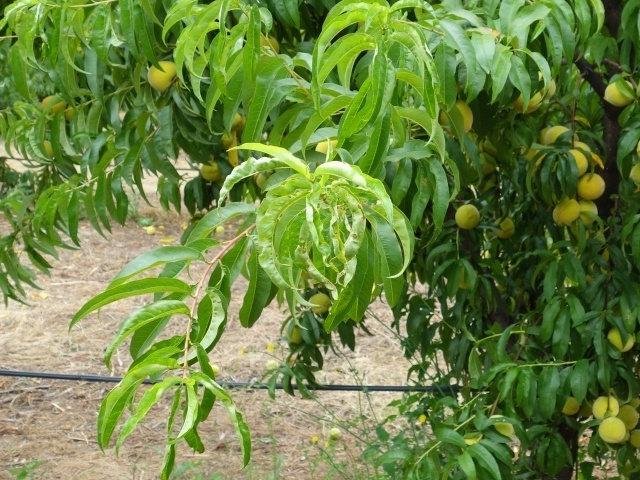peach: (438, 98, 476, 140), (144, 58, 180, 97), (601, 75, 639, 108), (575, 168, 610, 203), (546, 194, 582, 227), (564, 140, 594, 177), (604, 323, 637, 355), (540, 123, 574, 154), (595, 414, 628, 445), (511, 87, 545, 117), (590, 394, 622, 425), (450, 203, 481, 232), (572, 198, 601, 226), (490, 217, 519, 242), (307, 291, 332, 319), (473, 152, 499, 177), (196, 158, 223, 182), (559, 392, 583, 419), (41, 93, 67, 117), (226, 110, 248, 133)
